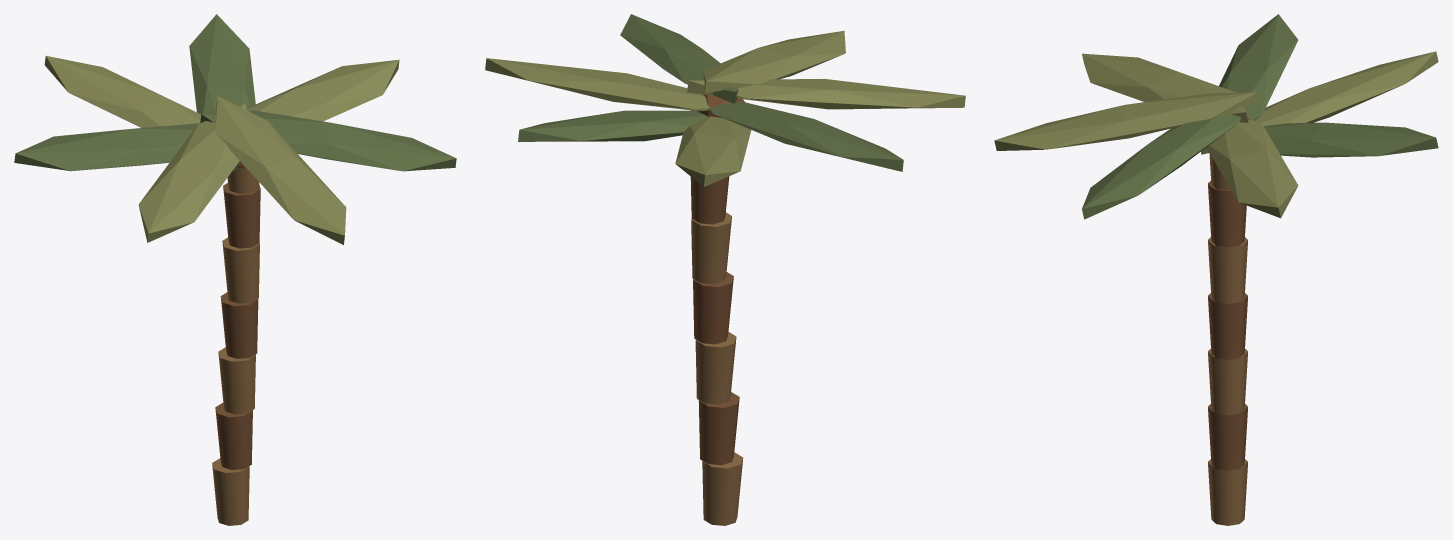
Rendered from palm.glb.
3 renders of one model, left to right at view 1: azimuth 30°, elevation 25°; view 2: azimuth 150°, elevation 25°; view 3: azimuth 270°, elevation 25°, orthographic. The views are drawn at different scales.
Visible parts, largest first — view 1: palm-surface, wind-leaf-0-surface, wind-leaf-6-surface, wind-leaf-1-surface, wind-leaf-5-surface, wind-leaf-4-surface, wind-leaf-2-surface, wind-leaf-3-surface; view 2: palm-surface, wind-leaf-6-surface, wind-leaf-2-surface, wind-leaf-5-surface, wind-leaf-0-surface, wind-leaf-3-surface, wind-leaf-4-surface, wind-leaf-1-surface; view 3: palm-surface, wind-leaf-0-surface, wind-leaf-1-surface, wind-leaf-2-surface, wind-leaf-4-surface, wind-leaf-3-surface, wind-leaf-6-surface, wind-leaf-5-surface.
Boxes of the visible parts, box(x1,y1,x2,y2) form: palm-surface: box(212, 161, 260, 525); wind-leaf-0-surface: box(215, 96, 346, 244); wind-leaf-6-surface: box(138, 103, 246, 242); wind-leaf-1-surface: box(200, 110, 456, 171); wind-leaf-5-surface: box(14, 123, 199, 171); wind-leaf-4-surface: box(44, 56, 201, 127); wind-leaf-2-surface: box(246, 59, 399, 121); wind-leaf-3-surface: box(189, 14, 255, 173); palm-surface: box(690, 94, 744, 525); wind-leaf-6-surface: box(687, 79, 965, 109); wind-leaf-2-surface: box(485, 58, 709, 110); wind-leaf-5-surface: box(709, 101, 903, 171); wind-leaf-0-surface: box(703, 30, 845, 93); wind-leaf-3-surface: box(518, 110, 707, 141); wind-leaf-4-surface: box(675, 116, 751, 186); wind-leaf-1-surface: box(620, 14, 738, 103); palm-surface: box(1208, 117, 1249, 525); wind-leaf-0-surface: box(994, 92, 1259, 150); wind-leaf-1-surface: box(1082, 90, 1246, 219); wind-leaf-2-surface: box(1206, 120, 1298, 218); wind-leaf-4-surface: box(1201, 51, 1438, 154); wind-leaf-3-surface: box(1264, 122, 1438, 157); wind-leaf-6-surface: box(1082, 53, 1248, 122); wind-leaf-5-surface: box(1219, 14, 1298, 120).
Size of the model in its own units: 5.23 by 5.38 by 5.07.
